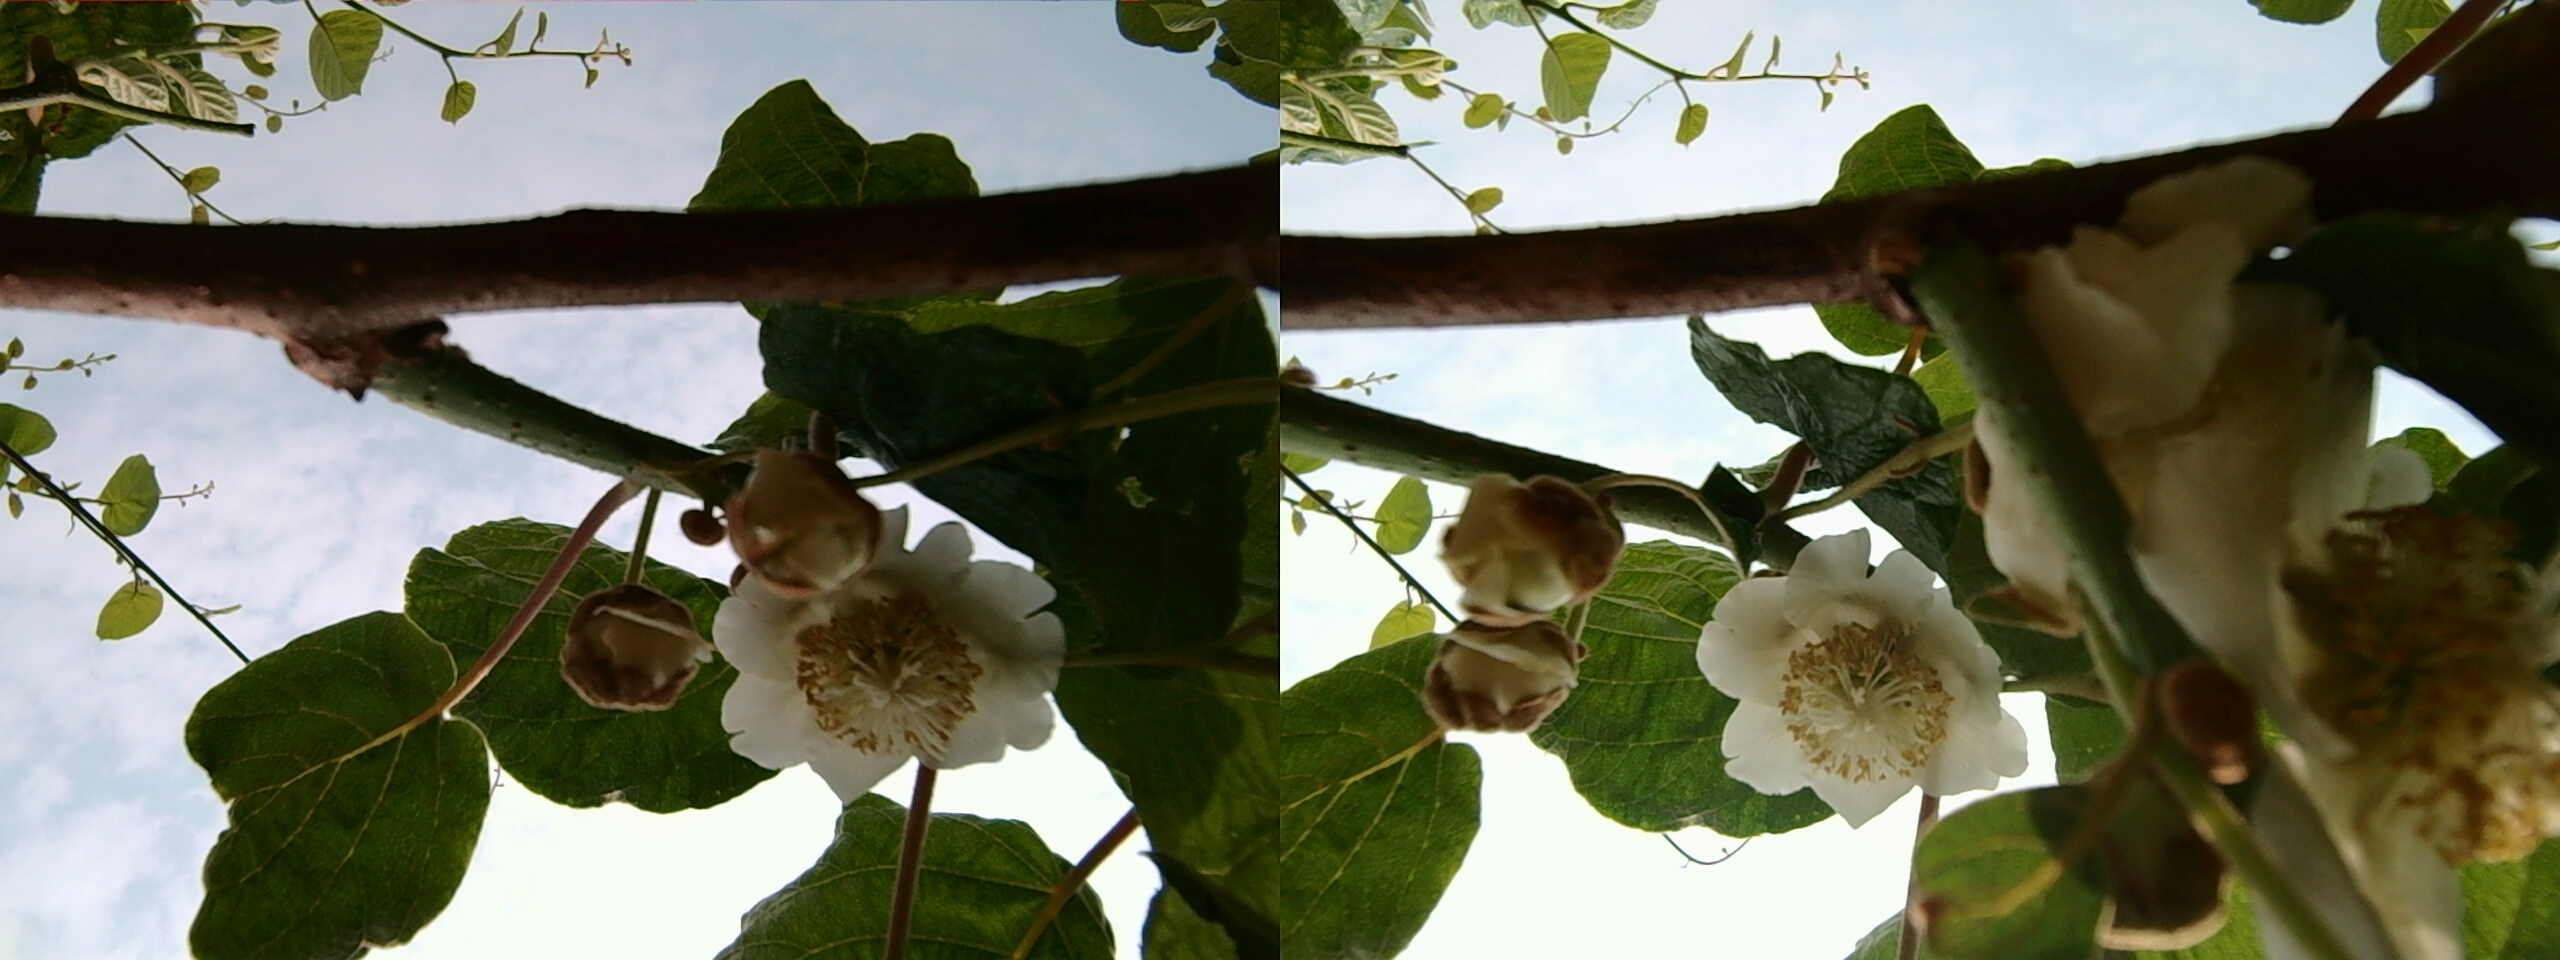flower: (2269, 465, 2547, 890), (707, 490, 1051, 790), (1701, 542, 2011, 818), (1430, 473, 1620, 624), (1424, 611, 1579, 735)
